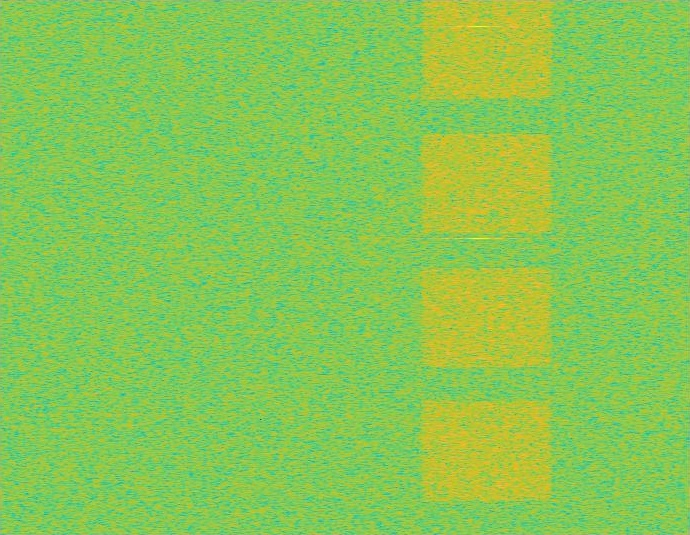5G: (418, 0, 556, 534)
Radar: (472, 0, 486, 534)
